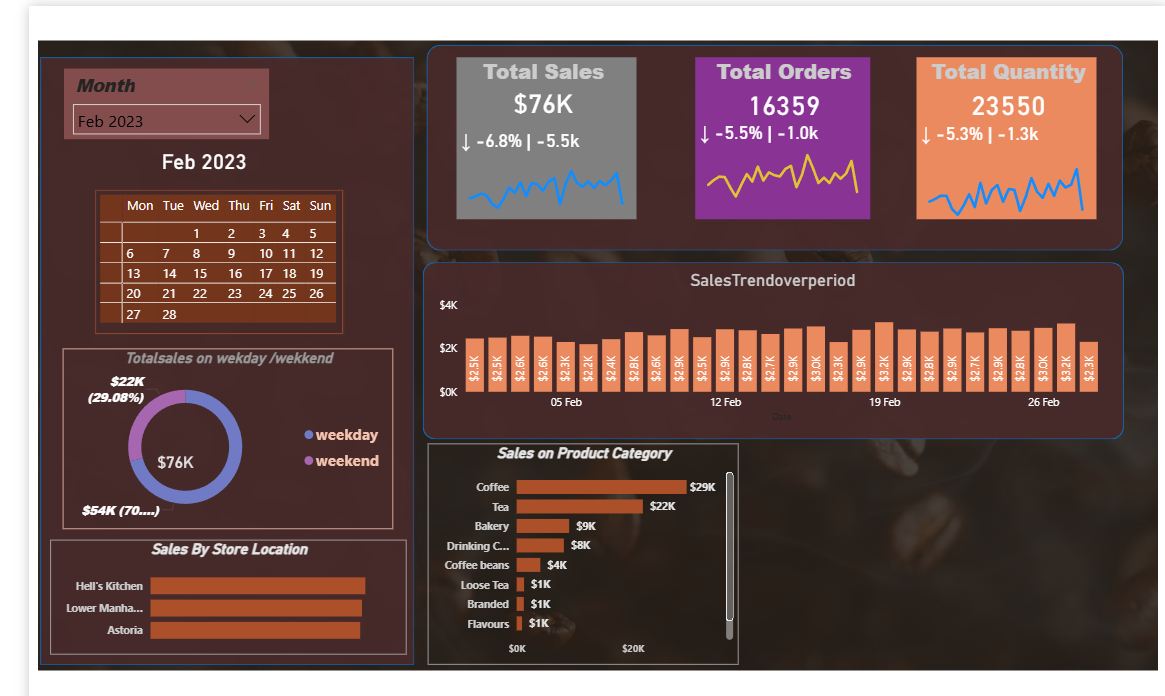

This screenshot's page, from the dashboard's own definition file:
{"tool":"powerbi","page":{"name":"Page 1","canvas":[1300,805],"ordinal":0},"visuals":[{"type":"shape","box":[450.5,292.7,801.2,202.3],"z":0},{"type":"shape","box":[453.6,44.6,796.3,235.3],"z":1000},{"type":"card","title":"Total Quantity","fields":{"Values":["Table1.total quantity"]},"box":[1024,57.9,190.5,75.6],"z":2000,"group":"g3"},{"type":"shape","box":[13.5,58,427.6,694.7],"z":2000},{"type":"card","title":"Total Sales","fields":{"Values":["Table.Totalsales"]},"box":[492.7,59.1,190.4,69.7],"z":2000,"group":"g1"},{"type":"card","title":"Total Orders","fields":{"Values":["Table1.order"]},"box":[770.5,59.1,186.1,75.2],"z":2000,"group":"g2"},{"type":"slicer","fields":{"Values":["Table.Month Year"]},"box":[40.5,71.5,234.7,80.9],"z":3000},{"type":"group","id":"g1","title":"Group 1","box":[488.6,59.1,205.1,185.8],"z":4000},{"type":"lineChart","fields":{"Category":["Table.Date Hierarchy.Date"],"Y":["Table1.total quantity"]},"box":[1014.6,131.9,204.8,114],"z":4000,"group":"g3"},{"type":"lineChart","fields":{"Category":["Table.Date Hierarchy.Date"],"Y":["Table1.order"]},"box":[761.3,132.7,200.1,113.3],"z":4000,"group":"g2"},{"type":"lineChart","fields":{"Category":["Table.Date Hierarchy.Date"],"Y":["Sum(Table1.Sales)"]},"box":[488.6,139.9,204.7,105.1],"z":4000,"group":"g1"},{"type":"group","id":"g2","title":"Group 1","box":[761.3,59.1,200.3,185.8],"z":5000},{"type":"group","id":"g3","title":"Group 1","box":[1014.6,57.9,205.1,187],"z":6000},{"type":"clusteredColumnChart","title":"SalesTrendoverperiod ","fields":{"Category":["Table.Date Hierarchy.Date"],"Y":["Table.Totalsales"]},"box":[464,303.5,771.6,178.1],"z":7000},{"type":"pivotTable","fields":{"Columns":["Table.days name"],"Values":["Min(Table.day num)"],"Rows":["Table.week num"]},"box":[75.5,210.4,283.3,164.6],"z":8000},{"type":"card","fields":{"Values":["Min(Table.Month Year)"]},"box":[137.6,161.9,126.8,32.4],"z":8001},{"type":"donutChart","title":"Totalsales on wekday /wekkend","fields":{"Category":["Table.weekday /wekkend"],"Y":["Table.Totalsales"]},"box":[39.1,391.2,377.7,206.4],"z":8002},{"type":"card","fields":{"Values":["Table.Totalsales"]},"box":[134.9,500.4,66.1,44.5],"z":8003},{"type":"clusteredBarChart","title":"Sales By Store Location","fields":{"Category":["Table1.store_location"],"Y":["Table.Totalsales"]},"box":[24.3,609.7,407.4,130.8],"z":8004},{"type":"clusteredBarChart","title":"Sales on Product Category","fields":{"Category":["Table1.product_category"],"Y":["Table.Totalsales"]},"box":[455.4,500,355.4,252.7],"z":8005}]}

Visuals, with their boxes on the page's 1300x805 design canvas (x1, y1, x2, y2). These are canvas units, not pixel positions in the 1165x696 screenshot, which may show the page scaled, cropped or inside an application window:
shape: x1=450 y1=293 x2=1252 y2=495
shape: x1=454 y1=45 x2=1250 y2=280
"Total Quantity" card: x1=1024 y1=58 x2=1214 y2=134
shape: x1=14 y1=58 x2=441 y2=753
"Total Sales" card: x1=493 y1=59 x2=683 y2=129
"Total Orders" card: x1=770 y1=59 x2=957 y2=134
slicer - Table.Month Year: x1=40 y1=72 x2=275 y2=152
"Group 1" group: x1=489 y1=59 x2=694 y2=245
lineChart - Table.Date Hierarchy.Date x Table1.total quantity: x1=1015 y1=132 x2=1219 y2=246
lineChart - Table.Date Hierarchy.Date x Table1.order: x1=761 y1=133 x2=961 y2=246
lineChart - Table.Date Hierarchy.Date x Sum(Table1.Sales): x1=489 y1=140 x2=693 y2=245
"Group 1" group: x1=761 y1=59 x2=962 y2=245
"Group 1" group: x1=1015 y1=58 x2=1220 y2=245
"SalesTrendoverperiod " clusteredColumnChart: x1=464 y1=304 x2=1236 y2=482
pivotTable - Table.days name x Min(Table.day num): x1=76 y1=210 x2=359 y2=375
card - Min(Table.Month Year): x1=138 y1=162 x2=264 y2=194
"Totalsales on wekday /wekkend" donutChart: x1=39 y1=391 x2=417 y2=598
card - Table.Totalsales: x1=135 y1=500 x2=201 y2=545
"Sales By Store Location" clusteredBarChart: x1=24 y1=610 x2=432 y2=740
"Sales on Product Category" clusteredBarChart: x1=455 y1=500 x2=811 y2=753
